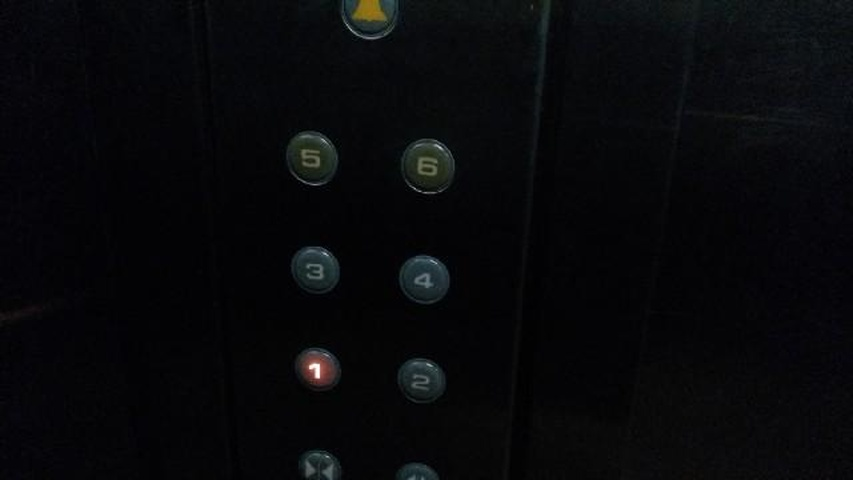1: (291, 343, 345, 394)
2: (394, 354, 448, 406)
3: (292, 243, 341, 294)
4: (399, 251, 452, 307)
5: (285, 129, 339, 187)
6: (399, 136, 456, 196)
close: (297, 447, 343, 480)
